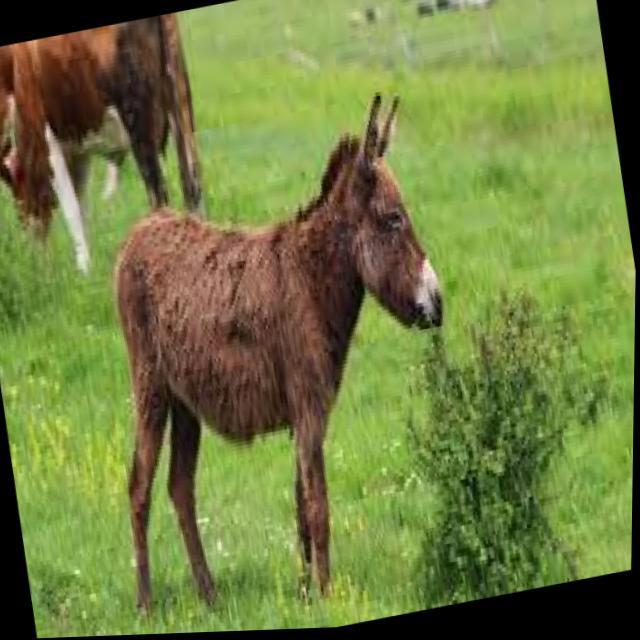Donkey: (71, 107, 498, 638), (302, 94, 461, 370)
